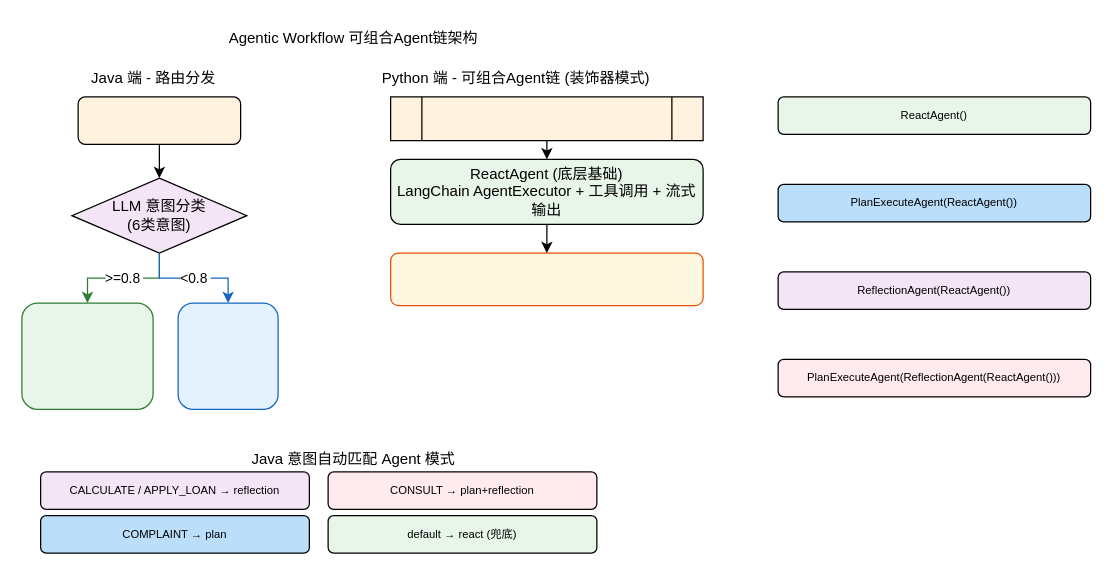
This 1113x575 diagram has some shape labels left out. The shapes that lost their labels are listed below. From the top down, each one's box as (x1, y1, x2, y2) in pixels, then its label:
(77, 96, 241, 144): 用户消息
(389, 96, 703, 141): BaseAgent 抽象基类 (统一 async chat() 接口)
(389, 252, 703, 306): ChatAgent 工厂 (按 agent_mode 组装链)
(21, 302, 153, 409): Workflow 快通道 (Java本地) 查询/计算 产品/申请
(177, 302, 278, 409): Agent 通道 咨询/投诉 兜底
